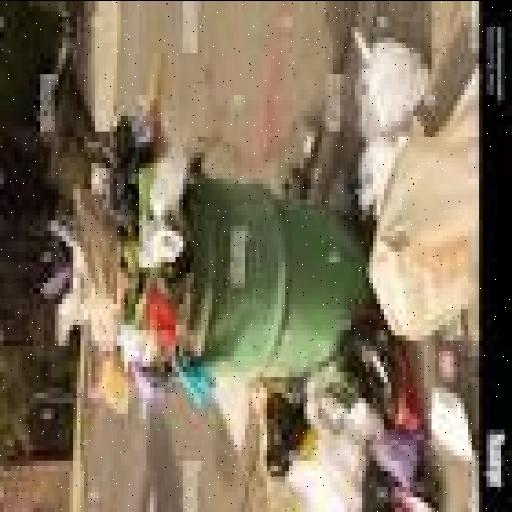poubelle_pleine: (30, 88, 356, 426)
